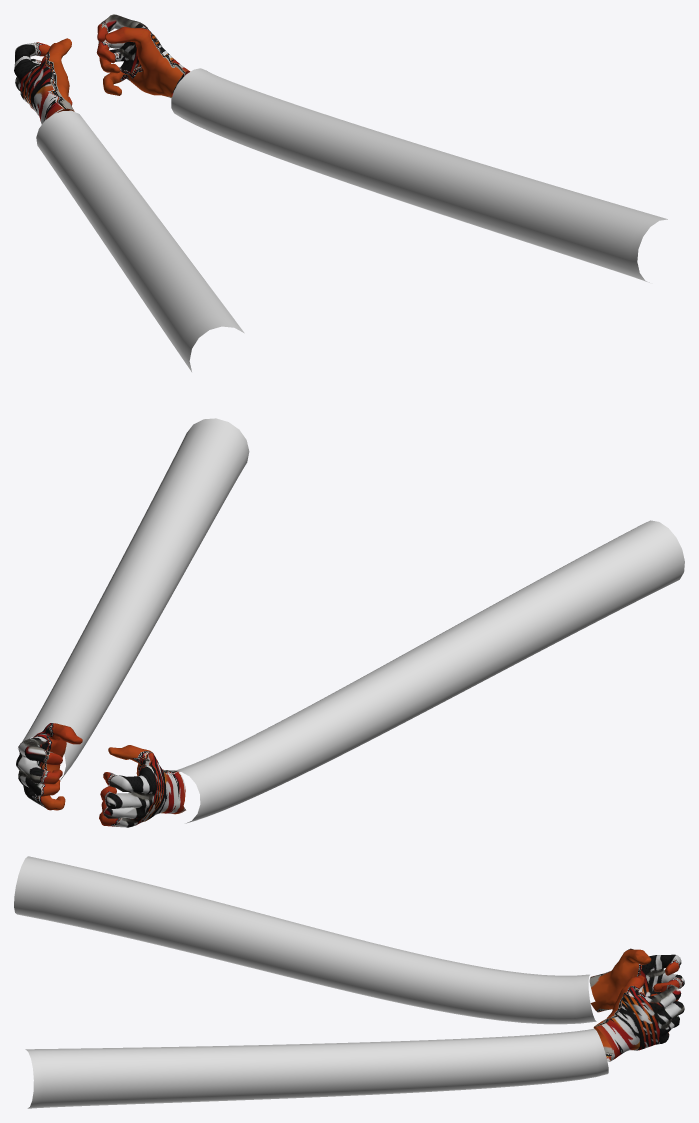
File: fpa_c4.glb
3 renders of one model, top to bottom at view 1: azimuth 30°, elevation 25°; view 2: azimuth 150°, elevation 25°; view 3: azimuth 270°, elevation 25°, orthographic. The views are drawn at different scales.
Visible parts, largest first — view 1: arms, hands; view 2: arms, hands; view 3: arms, hands.
Part boxes in pixels (x1,y1,x2,y2): arms: [36, 68, 667, 371]; hands: [14, 14, 190, 124]; arms: [22, 418, 684, 823]; hands: [16, 723, 185, 827]; arms: [14, 856, 608, 1108]; hands: [589, 948, 684, 1061].
Size of the model in its own units: 0.8554 by 0.1817 by 1.13.
Materials: 1 (1 with a texture image).
